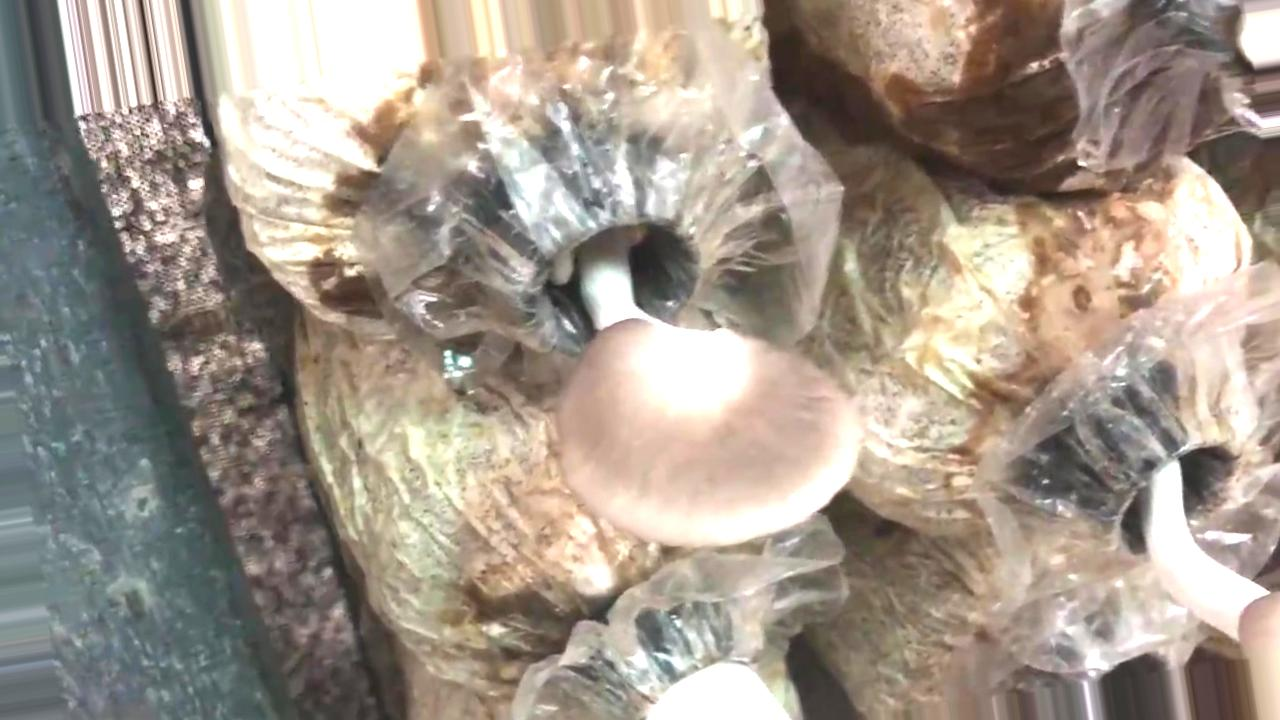nam: (486, 162, 861, 552)
